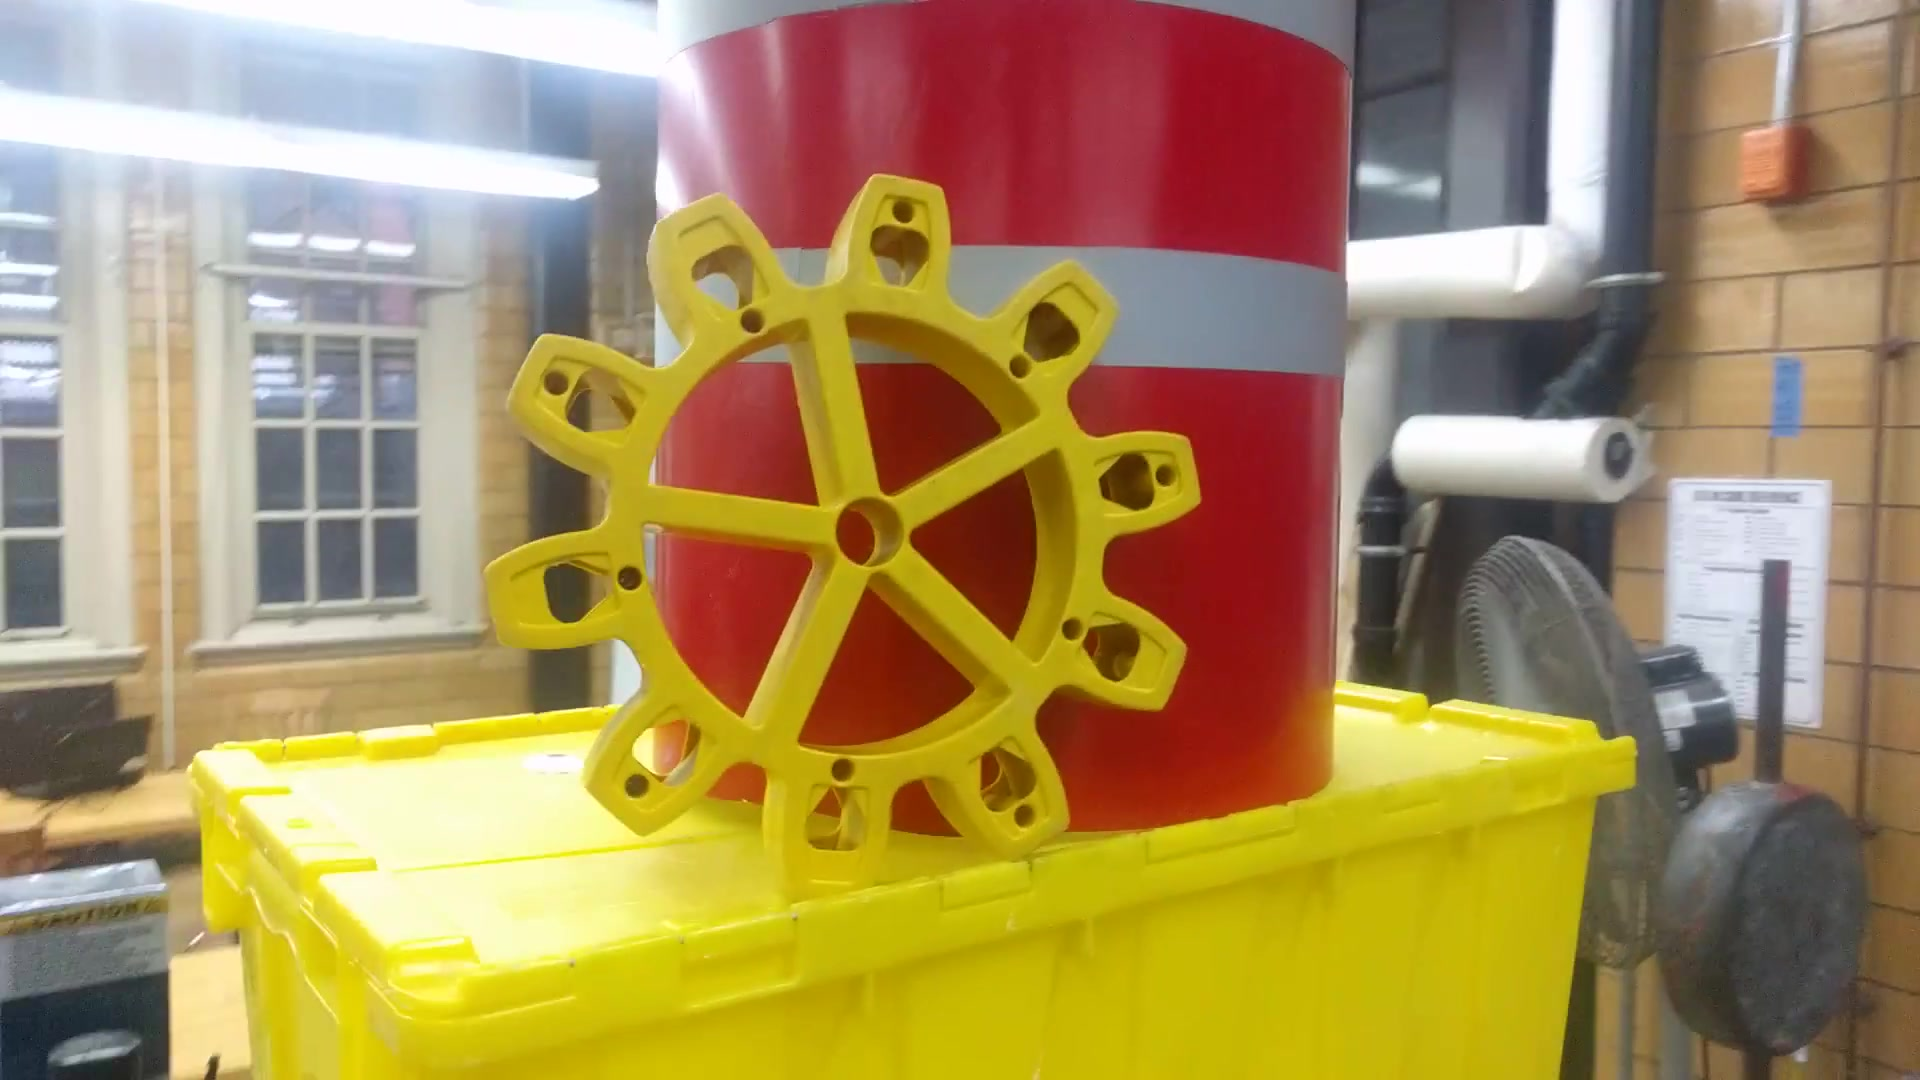gear: (469, 171, 1199, 868)
